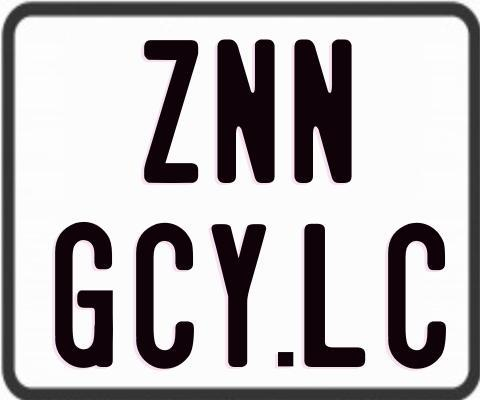C: (388, 221, 448, 373), (135, 221, 195, 372)
G: (54, 221, 115, 371)
L: (303, 224, 366, 372)
N: (293, 36, 357, 185), (217, 39, 276, 186)
Y: (211, 223, 270, 368)
Z: (142, 37, 196, 180)
